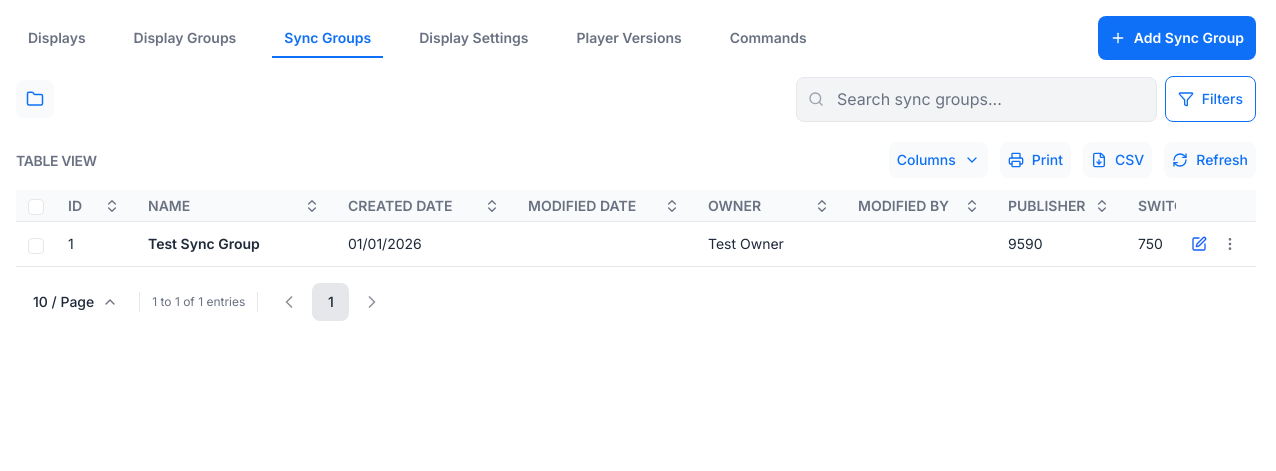
Test: Sync Groups page - filters › clicking Filters again closes the panel
Click the button "Filters".
click(1210, 99)  # box [1165,76,1256,122]
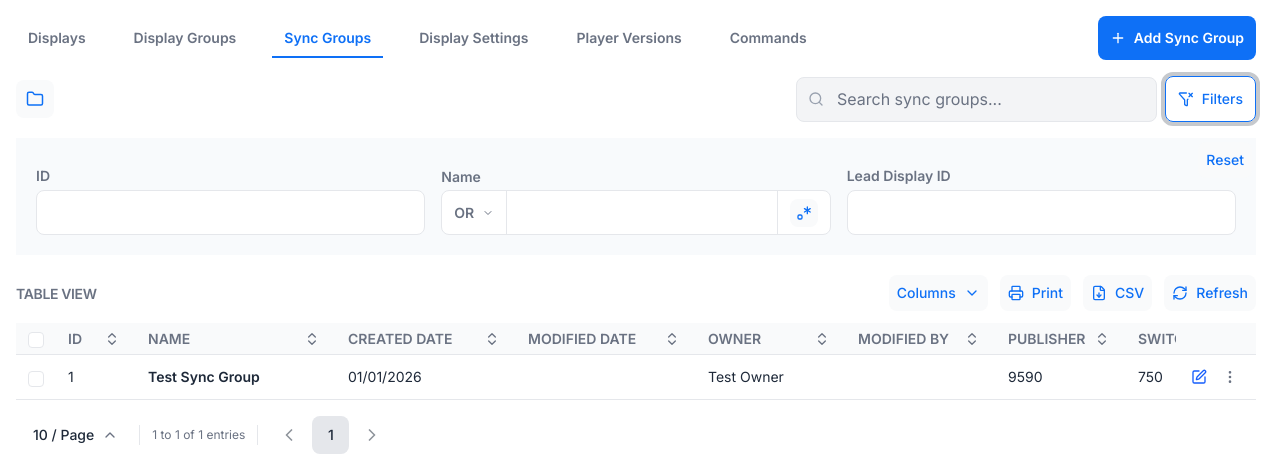
Expected: the button "Reset" is shown, [1198,142,1252,178]
Click the button "Filters".
click(1210, 99)  # box [1165,76,1256,122]
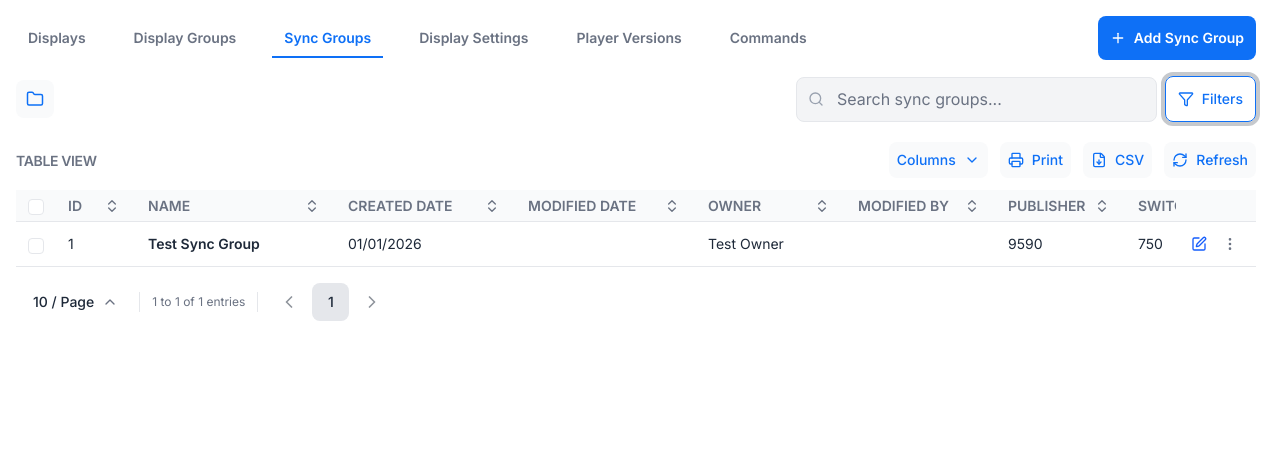
Expected: the button "Reset" is gone
